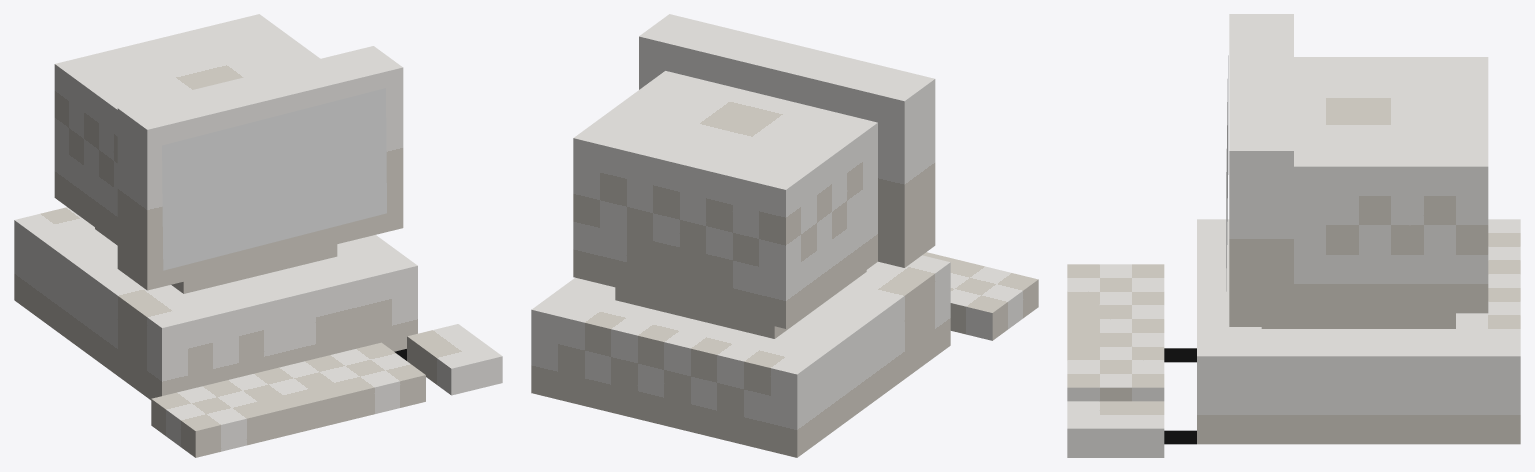
File: voxel_computer.glb
The picture shows the model from 3 angles, left to right: view 1: azimuth 30°, elevation 25°; view 2: azimuth 150°, elevation 25°; view 3: azimuth 270°, elevation 25°; orthographic projection. The views are drawn at different scales.
Visible parts, largest first — view 1: computer_3, Plane, screen_0, moniter_1, keyboard_4, mouse_5, stand_2; view 2: moniter_1, computer_3, screen_0, keyboard_4, stand_2; view 3: moniter_1, computer_3, screen_0, keyboard_4, mouse_5, stand_2, wire_6, wire_7.
Boxes of the visible parts, left/top/right/bottom form: computer_3: left=14, top=207, right=417, bottom=400; Plane: left=162, top=88, right=386, bottom=270; screen_0: left=117, top=46, right=403, bottom=290; moniter_1: left=54, top=14, right=320, bottom=243; keyboard_4: left=151, top=342, right=425, bottom=457; mouse_5: left=407, top=324, right=502, bottom=395; stand_2: left=95, top=227, right=337, bottom=293; moniter_1: left=573, top=71, right=877, bottom=328; computer_3: left=531, top=255, right=950, bottom=457; screen_0: left=639, top=14, right=935, bottom=267; keyboard_4: left=922, top=252, right=1038, bottom=340; stand_2: left=615, top=270, right=866, bottom=338; moniter_1: left=1294, top=57, right=1488, bottom=313; computer_3: left=1197, top=219, right=1520, bottom=444; screen_0: left=1229, top=14, right=1293, bottom=326; keyboard_4: left=1067, top=264, right=1164, bottom=401; mouse_5: left=1067, top=401, right=1164, bottom=457; stand_2: left=1261, top=313, right=1455, bottom=328; wire_6: left=1164, top=348, right=1196, bottom=362; wire_7: left=1164, top=430, right=1196, bottom=444.
Bounding box in the file's own units: 0.75 × 0.625 × 0.875.
1 material, 1 textured.
